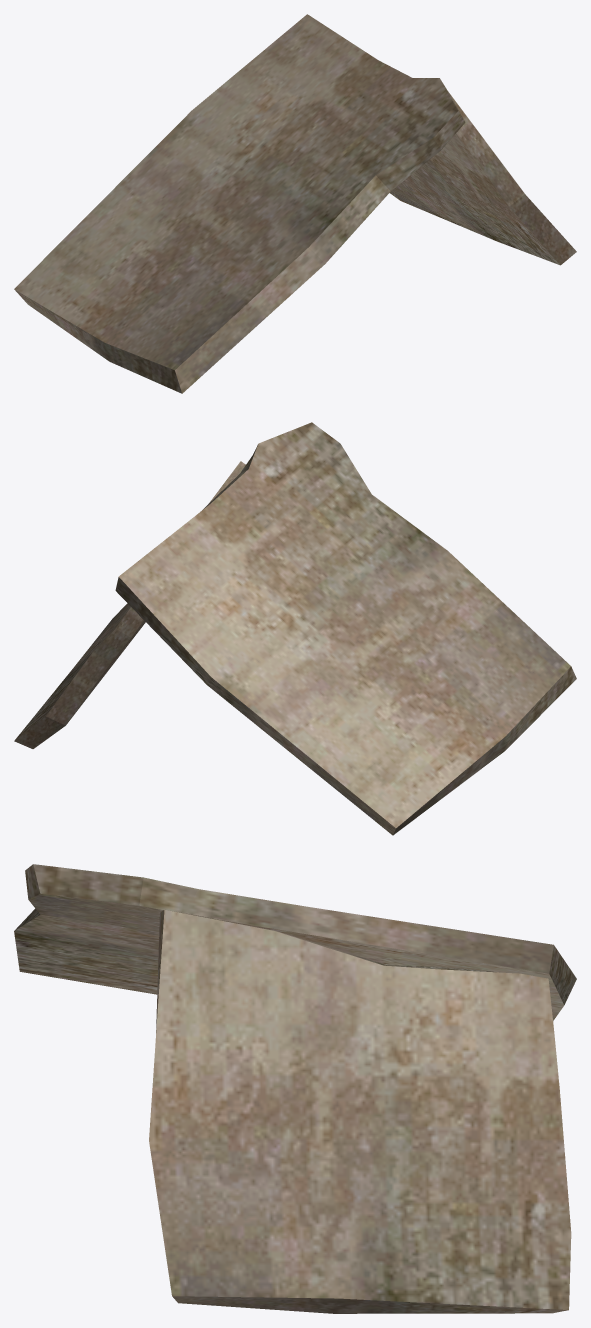
File: Rbl_P1.glb
3 renders of one model, top to bottom at view 1: azimuth 30°, elevation 25°; view 2: azimuth 150°, elevation 25°; view 3: azimuth 270°, elevation 25°, orthographic. The views are drawn at different scales.
Visible parts, largest first — view 1: _Rbl_P1; view 2: _Rbl_P1; view 3: _Rbl_P1.
Part boxes in pixels (x1,y1,x2,y2): _Rbl_P1: (14,14,576,393); _Rbl_P1: (14,422,576,835); _Rbl_P1: (14,864,576,1313).
Bounding box in the file's own units: 4.39 × 2.4 × 3.3.
1 material, 1 textured.
